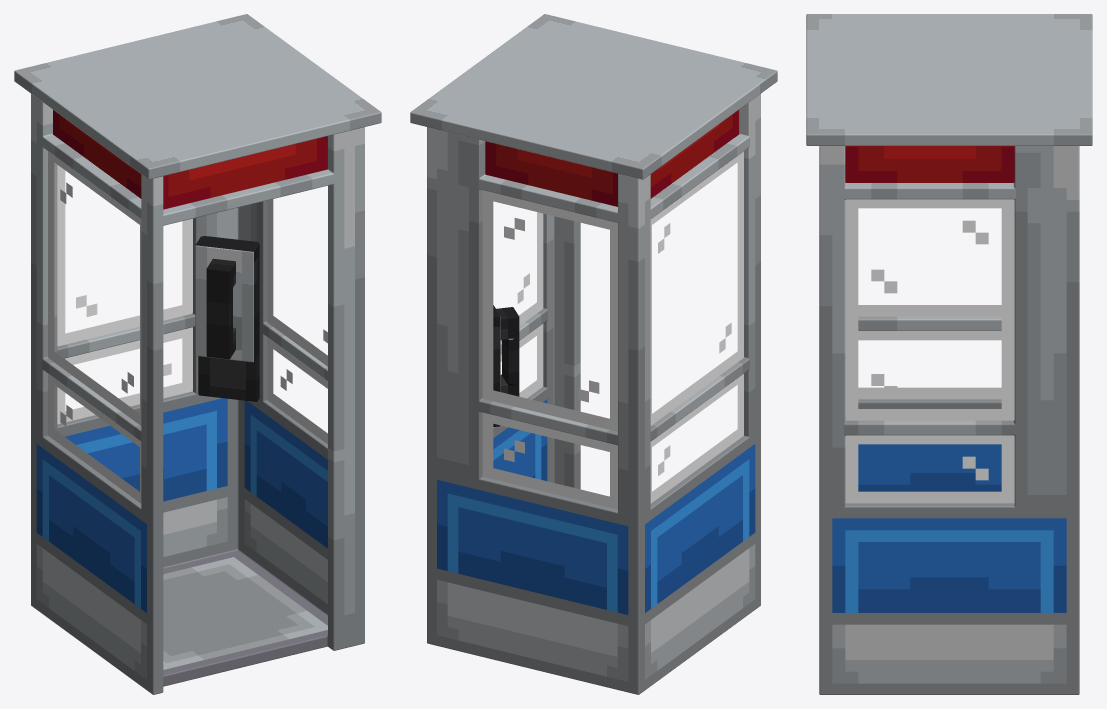
Rendered from PayPhone.glb.
3 renders of one model, left to right at view 1: azimuth 30°, elevation 25°; view 2: azimuth 150°, elevation 25°; view 3: azimuth 270°, elevation 25°, orthographic. The views are drawn at different scales.
Visible parts, largest first — view 1: cube.069, cube.010, cube.019, cube.003, cube.037, cube.031, cube.002, cube.039, cube.028, cube.056, cube.024; view 2: cube.069, cube.010, cube.037, cube.019, cube.039, cube.031, cube.028, cube.002, cube.024, cube.056, cube.003; view 3: cube.069, cube.010, cube.024, cube.019, cube.056, cube.028, cube.031.
Boxes of the visible parts, <box> form: cube.069: <box>31,94,364,694</box>; cube.010: <box>14,14,381,179</box>; cube.019: <box>53,110,327,209</box>; cube.003: <box>195,236,259,401</box>; cube.037: <box>57,138,192,346</box>; cube.031: <box>48,151,141,425</box>; cube.002: <box>206,258,235,359</box>; cube.039: <box>57,327,192,424</box>; cube.028: <box>48,374,141,503</box>; cube.056: <box>267,337,327,444</box>; cube.024: <box>267,199,327,366</box>; cube.069: <box>427,94,760,694</box>; cube.010: <box>410,14,777,179</box>; cube.037: <box>482,190,617,431</box>; cube.019: <box>485,110,738,206</box>; cube.039: <box>482,412,617,509</box>; cube.031: <box>650,151,743,425</box>; cube.028: <box>650,374,743,503</box>; cube.002: <box>496,307,519,396</box>; cube.024: <box>517,212,543,325</box>; cube.056: <box>500,324,543,398</box>; cube.003: <box>493,305,500,426</box>; cube.069: <box>819,146,1079,694</box>; cube.010: <box>806,14,1092,145</box>; cube.024: <box>845,199,1014,420</box>; cube.019: <box>845,146,1014,182</box>; cube.056: <box>845,435,1014,503</box>; cube.028: <box>858,331,1001,399</box>; cube.031: <box>858,269,1001,316</box>.
Bounding box in the file's own units: 2.2 × 4.8 × 2.2.
Materials: 1 (1 with a texture image).
